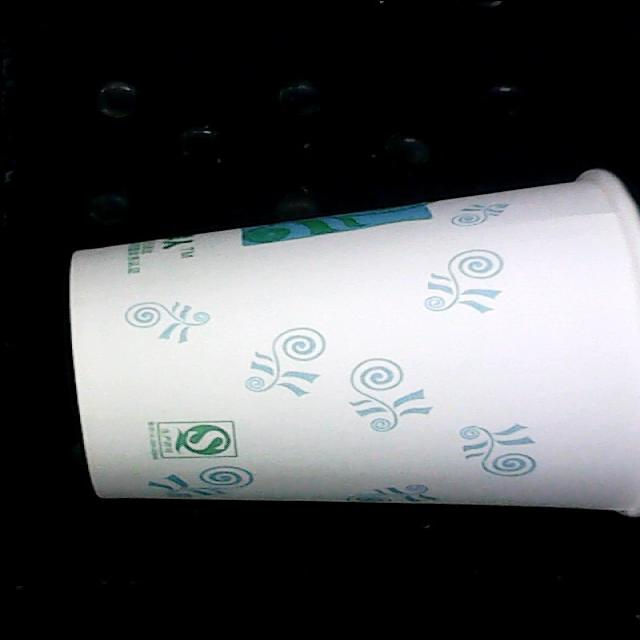-Recyclables - paper cup-: (64, 168, 640, 516)
